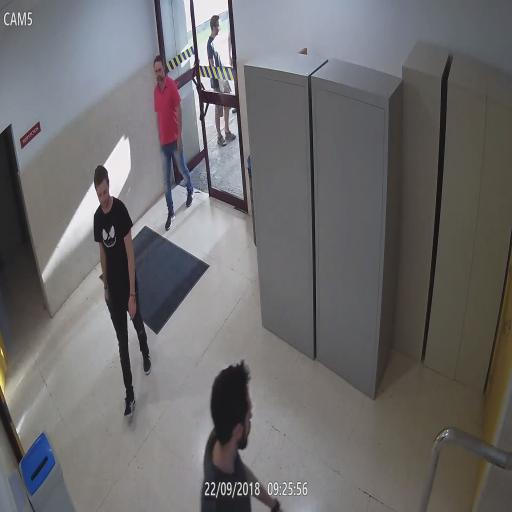Handgun: (104, 287, 111, 321), (217, 80, 232, 94)
